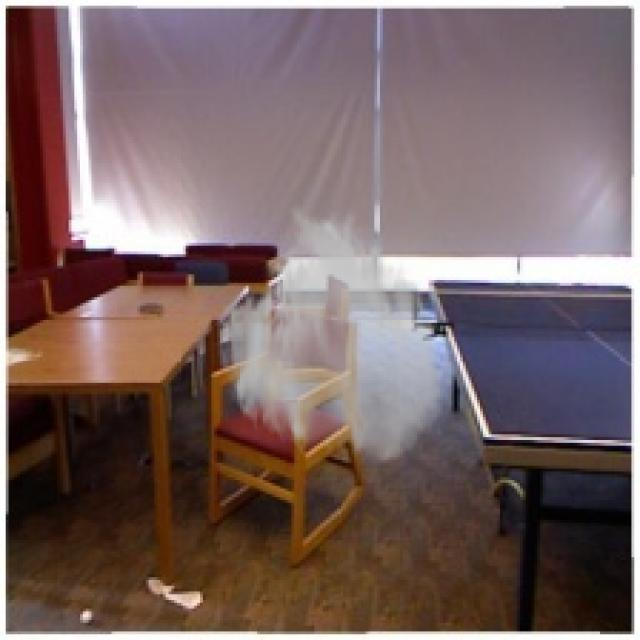smoke: (217, 200, 446, 469)
